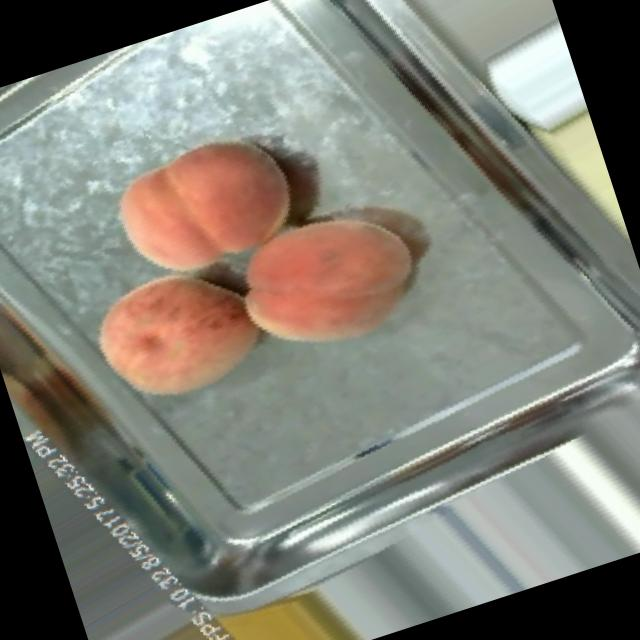Fruit: (202, 162, 453, 396), (80, 95, 334, 318), (62, 235, 288, 436), (181, 527, 402, 640), (86, 578, 292, 640)
